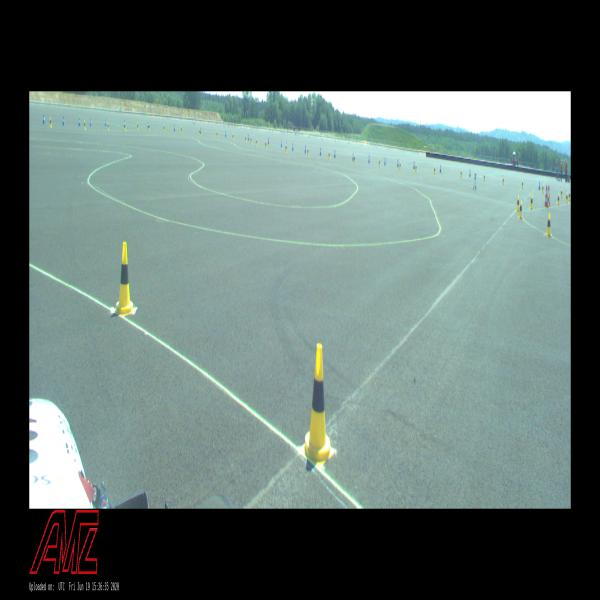blue_cone: (62, 116, 64, 125), (292, 142, 294, 151), (334, 149, 336, 158), (538, 181, 540, 190), (43, 115, 45, 123), (90, 118, 92, 126), (352, 153, 354, 161), (368, 155, 370, 163), (384, 157, 386, 165), (397, 159, 399, 167), (413, 161, 415, 169), (469, 169, 471, 177), (320, 147, 321, 156), (79, 118, 80, 126), (440, 164, 441, 172), (105, 119, 106, 126), (174, 125, 175, 131)
large_orange_cone: (544, 186, 549, 207), (548, 185, 550, 207)
yellow_cone: (301, 344, 335, 466), (114, 243, 135, 316), (545, 213, 552, 237), (518, 201, 522, 219), (530, 194, 534, 210), (516, 196, 519, 211), (557, 193, 560, 205), (566, 193, 568, 204), (560, 188, 562, 198), (50, 117, 52, 127), (84, 120, 86, 130), (328, 150, 330, 160), (399, 160, 401, 170), (568, 191, 570, 201), (265, 140, 267, 149), (285, 144, 287, 153), (307, 148, 309, 157), (378, 158, 380, 167), (415, 163, 417, 172), (522, 179, 524, 188), (542, 184, 544, 193), (148, 123, 150, 131), (250, 136, 252, 144), (460, 170, 462, 178), (502, 177, 504, 185), (124, 123, 126, 131), (137, 123, 139, 130), (163, 125, 165, 132), (245, 135, 247, 142), (548, 194, 549, 207), (354, 154, 355, 164), (108, 122, 109, 130), (181, 126, 182, 134), (256, 138, 257, 146), (434, 166, 435, 174), (484, 174, 485, 182), (199, 128, 200, 136)
